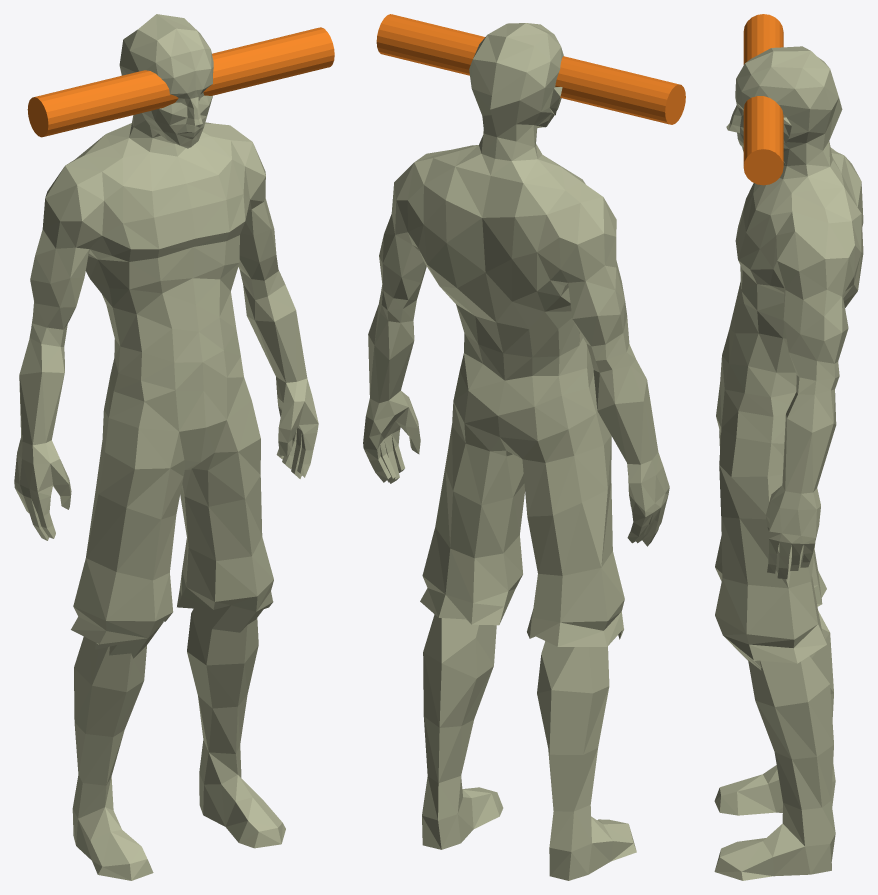
The model's file is male.obj.
3 views of the same model, side by side, from view 1: azimuth 30°, elevation 25°; view 2: azimuth 150°, elevation 25°; view 3: azimuth 270°, elevation 25° (orthographic). The views are drawn at different scales.
Visible parts, largest first — view 1: group_0_11909273, group_0_16089887; view 2: group_0_11909273, group_0_16089887; view 3: group_0_11909273, group_0_16089887.
Boxes of the visible parts, x1,y1,x2,y2 form: group_0_11909273: (14, 14, 318, 880); group_0_16089887: (27, 27, 334, 137); group_0_11909273: (363, 23, 669, 880); group_0_16089887: (376, 14, 685, 124); group_0_11909273: (714, 46, 863, 880); group_0_16089887: (743, 14, 783, 185).
Bounding box in the file's own units: 8.01 × 21.68 × 3.73.
